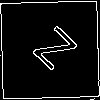Z: (25, 25, 79, 79)
